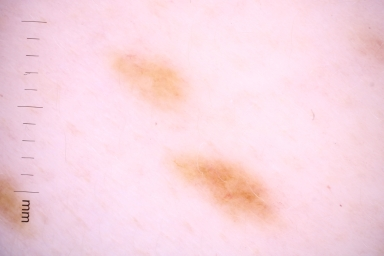seborrheic keratosis: (171, 155, 283, 222), (103, 51, 193, 117)
